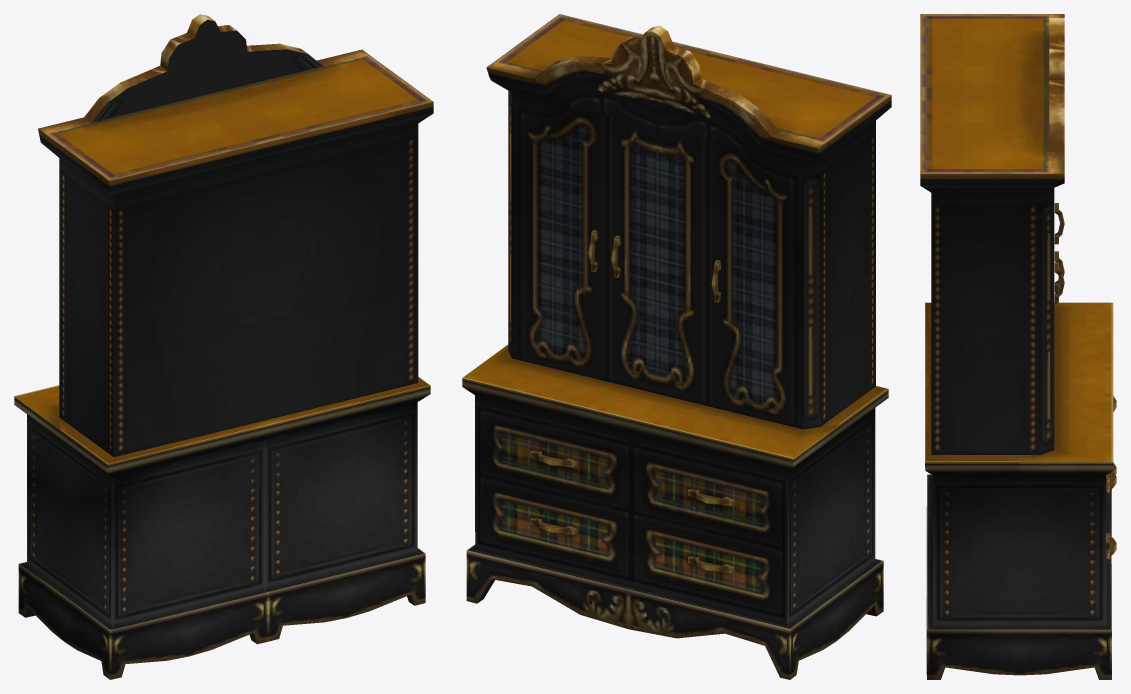
File: furni_0200315_03.FBX
The picture shows the model from 3 angles, left to right: view 1: azimuth 30°, elevation 25°; view 2: azimuth 150°, elevation 25°; view 3: azimuth 270°, elevation 25°; orthographic projection. The views are drawn at different scales.
Visible parts, largest first — view 1: furni_0200315_03; view 2: furni_0200315_03; view 3: furni_0200315_03.
Boxes of the visible parts, x1=… form: furni_0200315_03: x1=14, y1=14, x2=433, y2=679; furni_0200315_03: x1=462, y1=14, x2=891, y2=679; furni_0200315_03: x1=920, y1=14, x2=1116, y2=679.
Bounding box in the file's own units: 164 × 279 × 85.12.
Materials: 1 (1 with a texture image).
